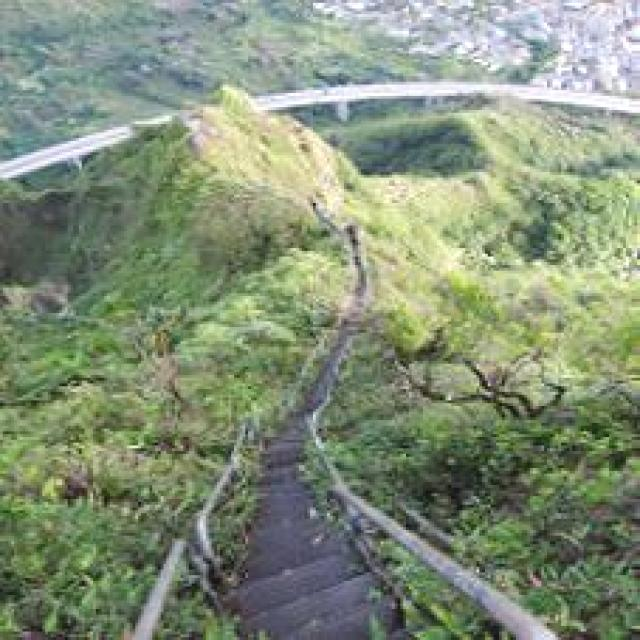downstair: (207, 503, 407, 630)
